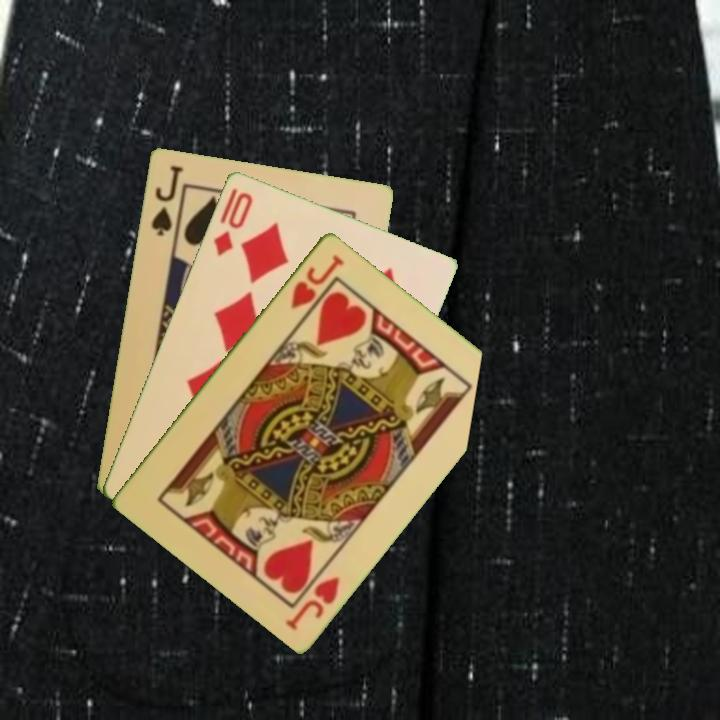10d: (209, 184, 256, 259)
Jh: (286, 250, 347, 312), (282, 572, 343, 633)
Js: (147, 162, 186, 238)
